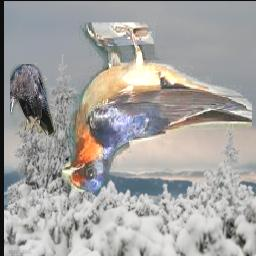Crow: (9, 65, 54, 136)
Swallow: (62, 22, 252, 192)
